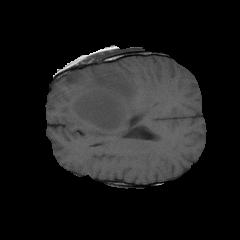glioma: (59, 66, 142, 138)
